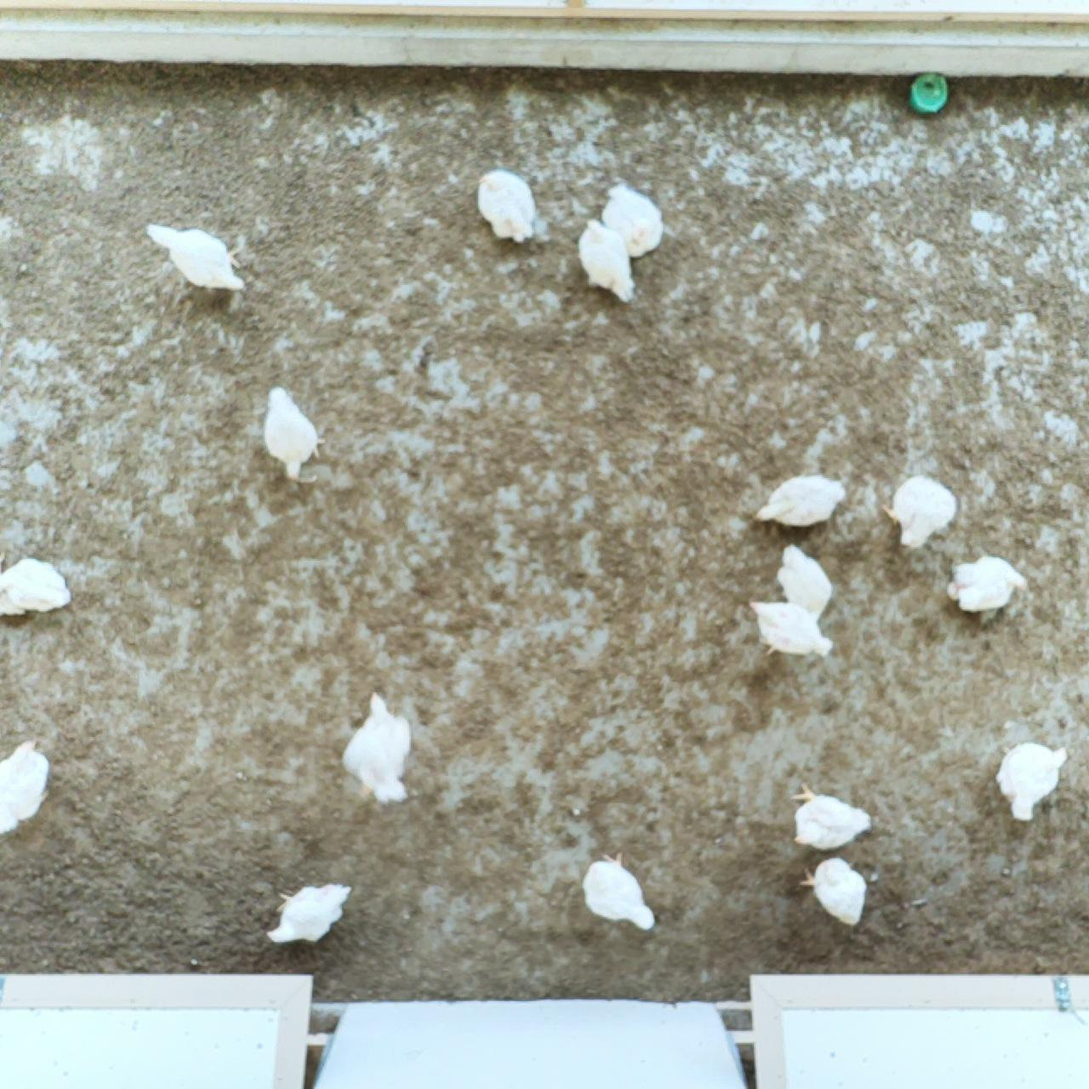chicken: (341, 690, 416, 805), (144, 219, 250, 300), (260, 380, 328, 486), (994, 738, 1073, 825), (943, 545, 1032, 619), (582, 852, 659, 931), (881, 476, 960, 552), (747, 596, 834, 662), (0, 732, 55, 836), (790, 783, 876, 849), (574, 216, 638, 304), (596, 180, 664, 262), (775, 540, 837, 629), (755, 473, 849, 530), (265, 880, 350, 943), (473, 165, 540, 244), (0, 556, 71, 627), (803, 854, 865, 928)
